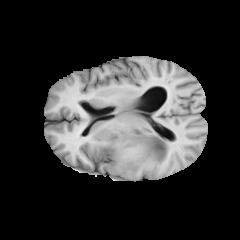glioma: (82, 128, 168, 176)
